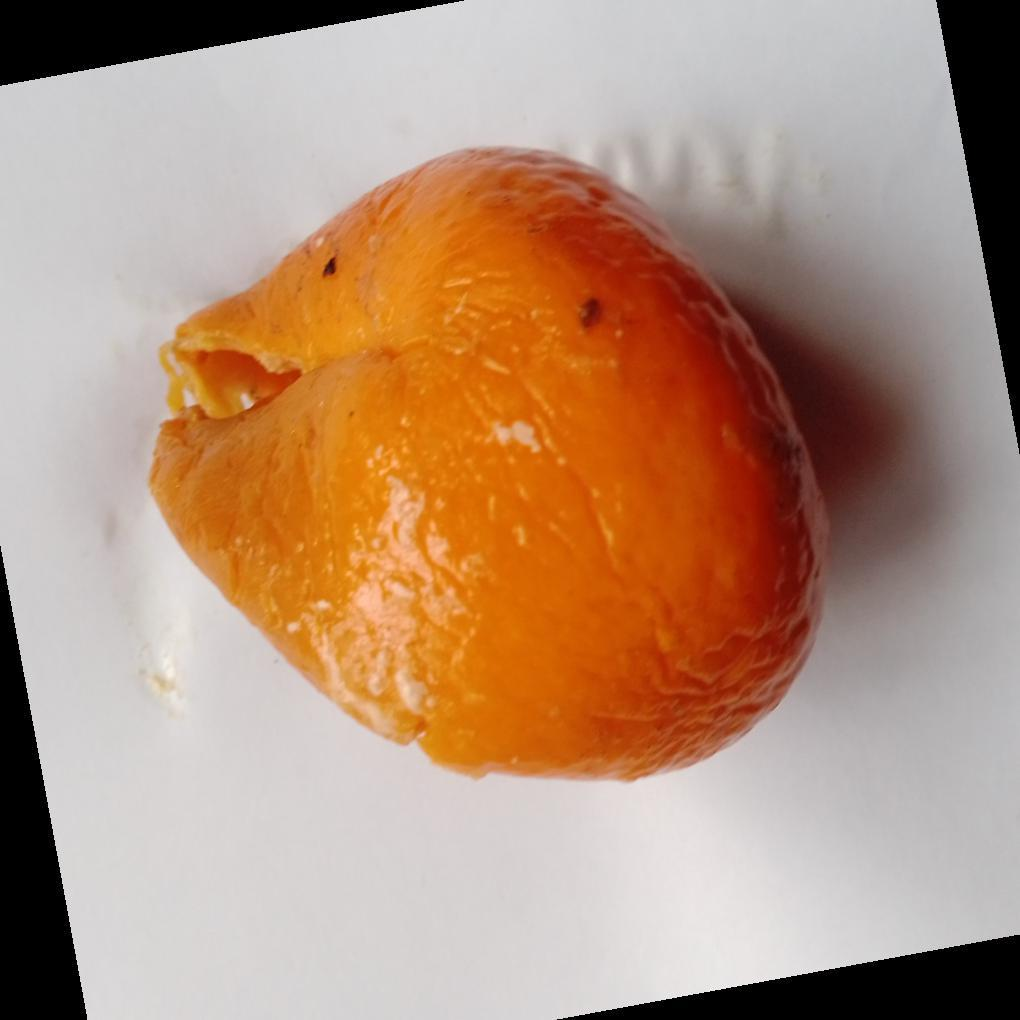FreshOrange: (146, 148, 832, 787)
